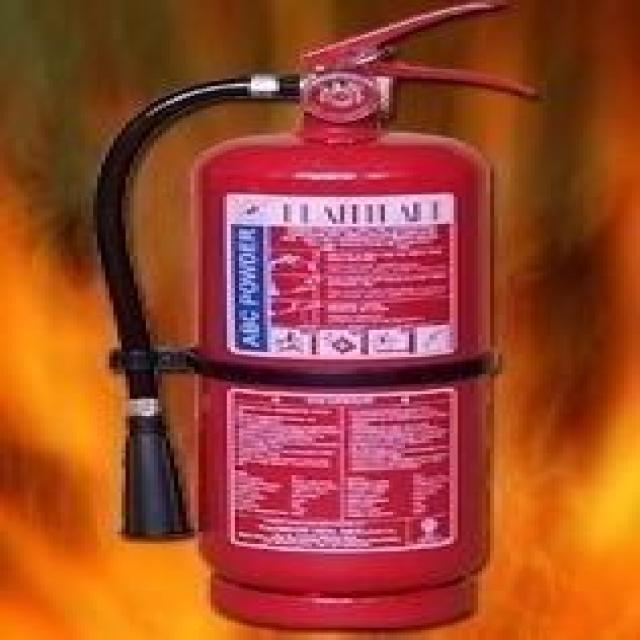fire_extinguisher: (75, 0, 553, 635)
